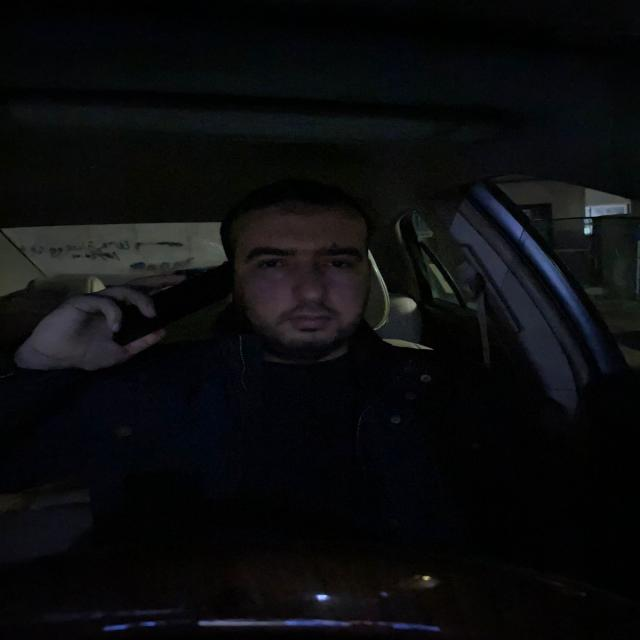mobile: (108, 259, 231, 349)
person: (218, 178, 390, 355)
